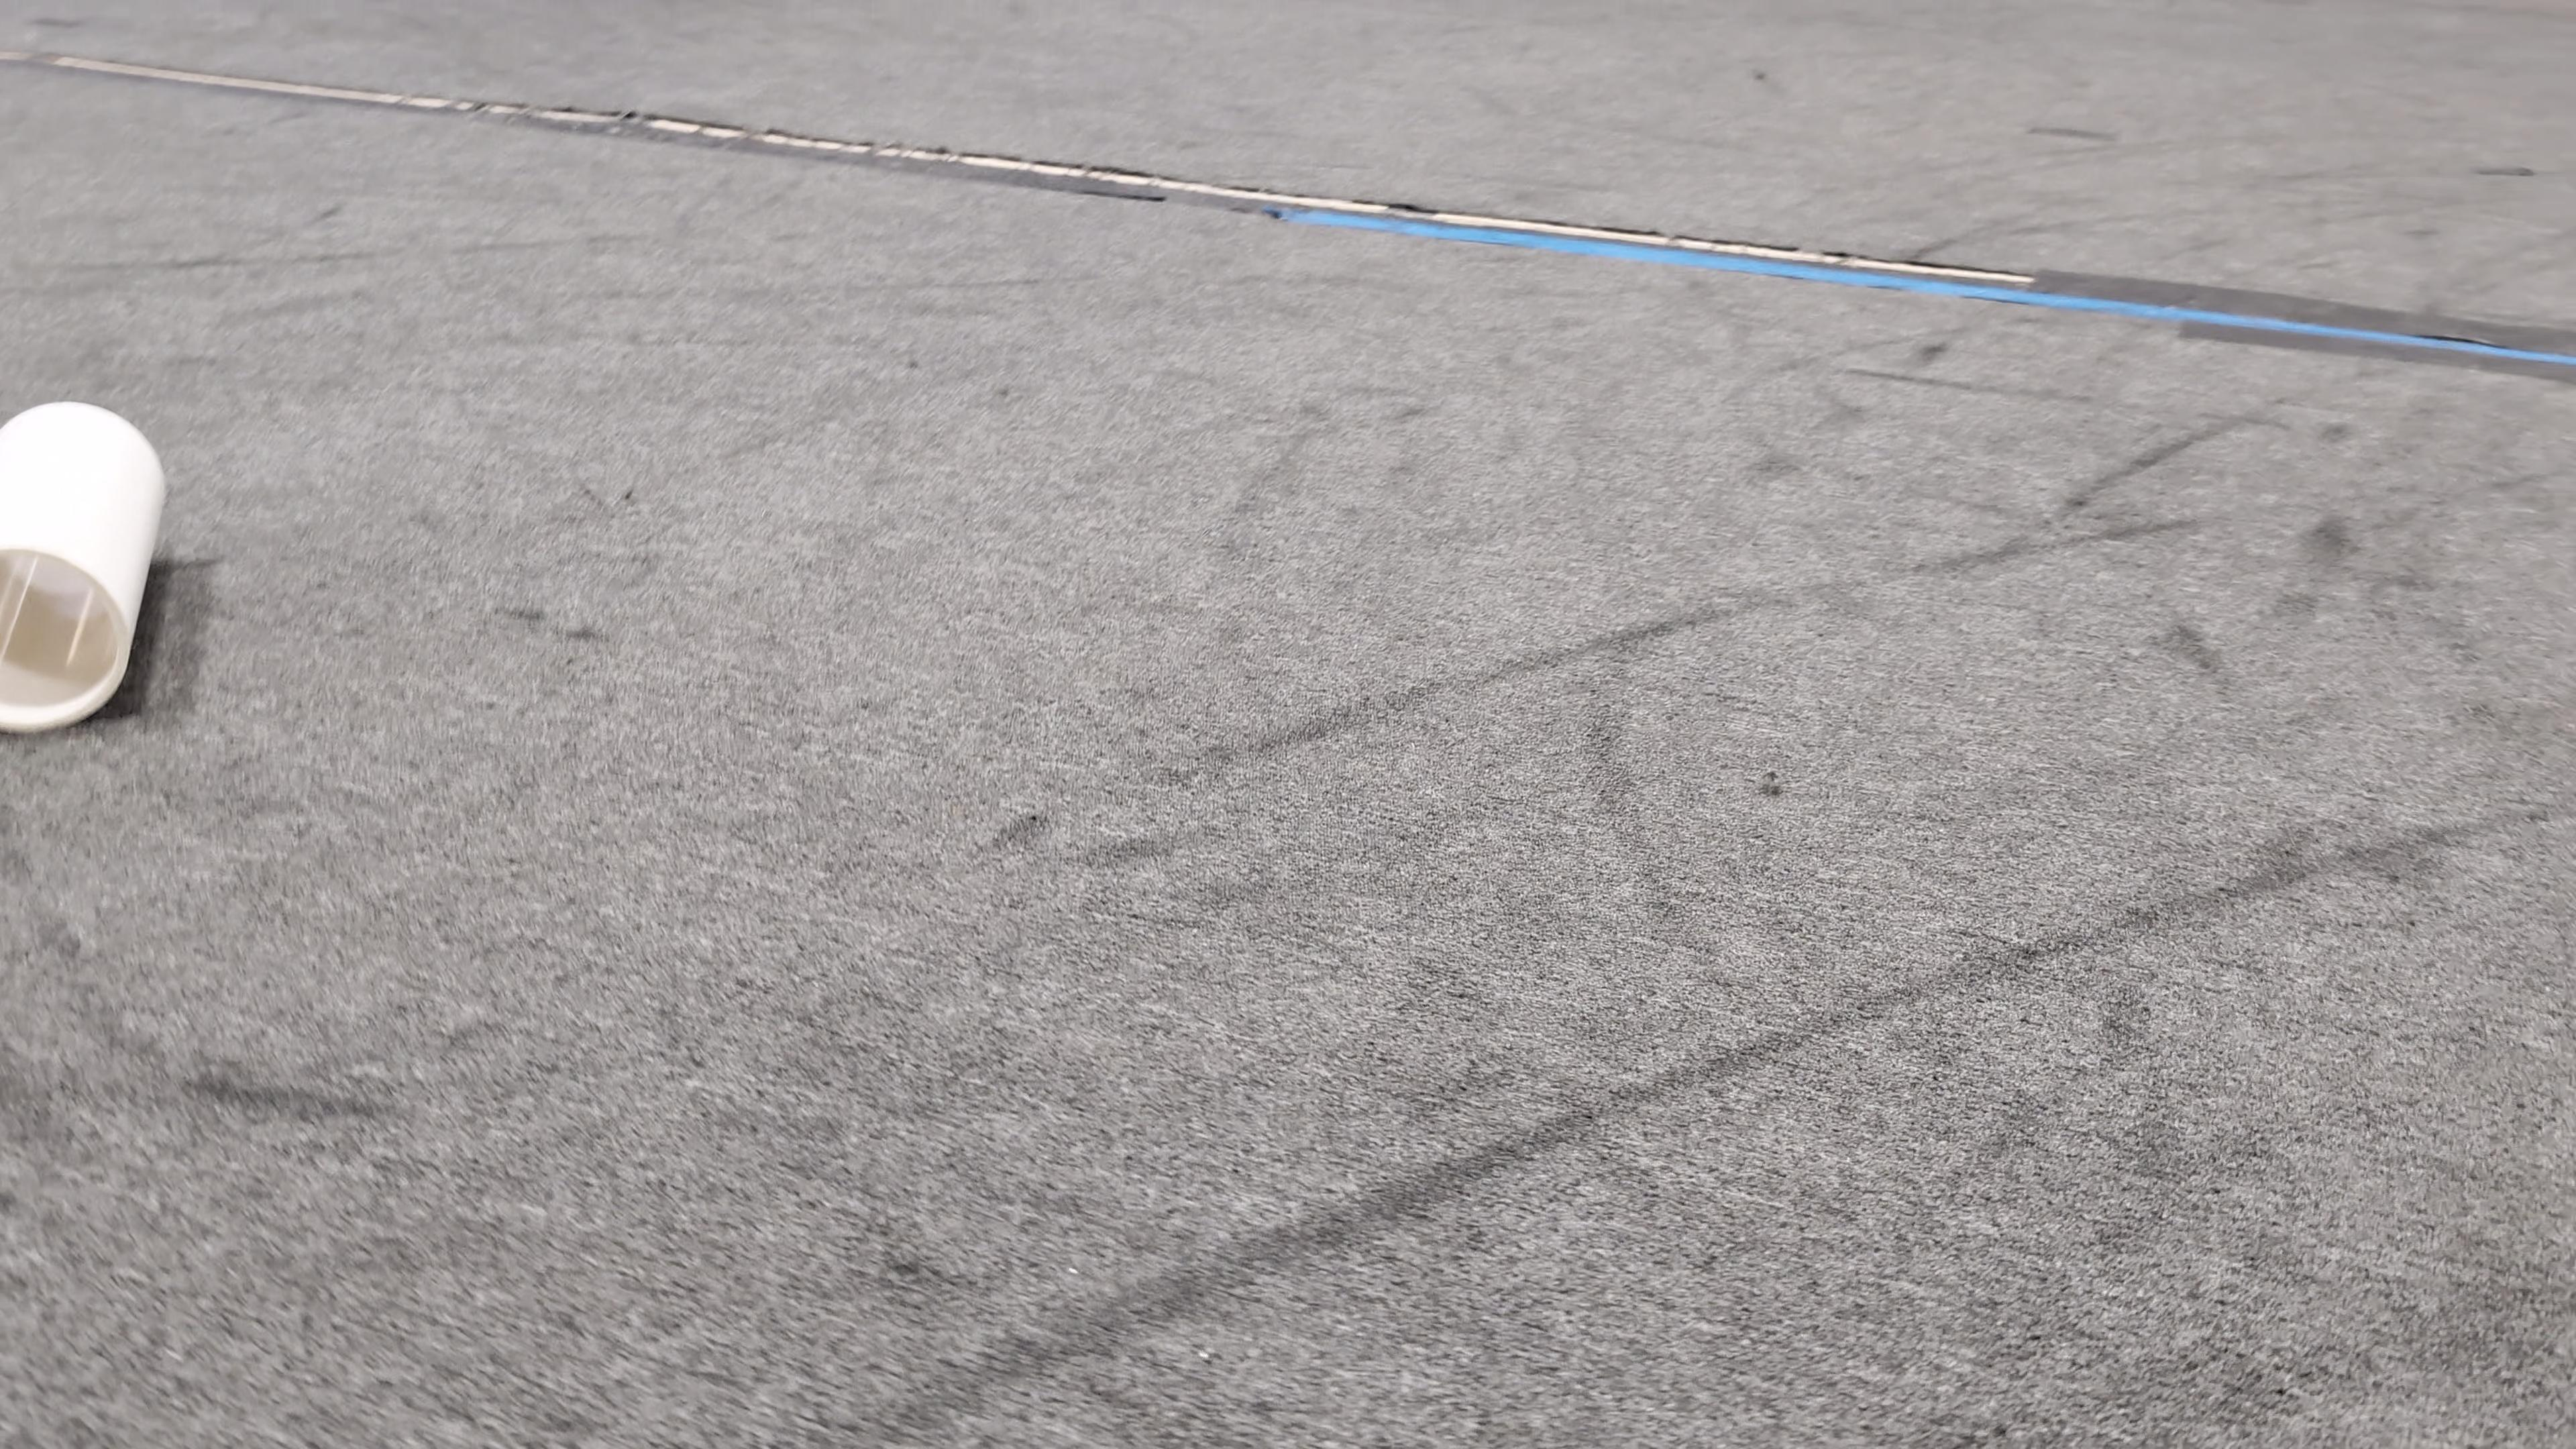coral: (0, 396, 170, 738)
